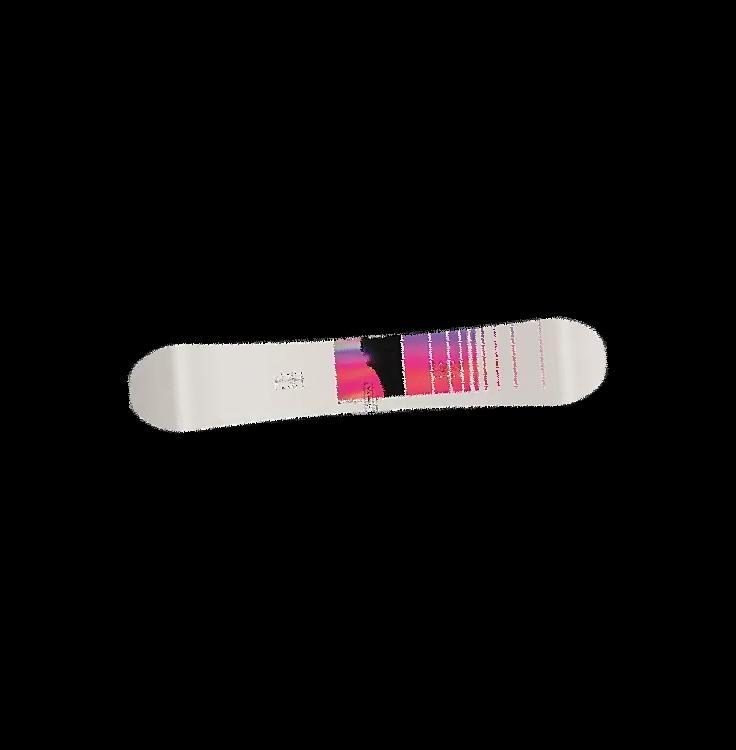Snowboard: (127, 315, 608, 433)
